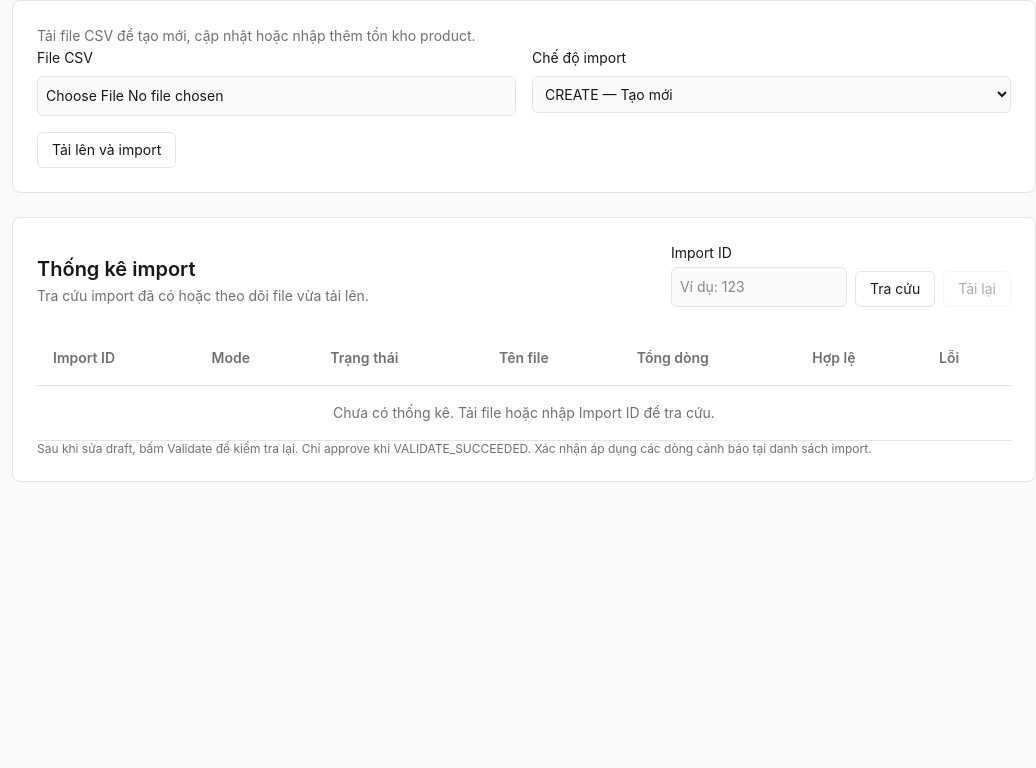
uploads selected CSV and mode, displays stats and supports validate and approve
The image size is (1036, 768).
Earlier steps of the test are not shown.
Select "RESTOCK — Nhập thêm tồn kho" in the dropdown labelled "Chế độ import" at (772, 95), box x1=532 y1=76 x2=1011 y2=113
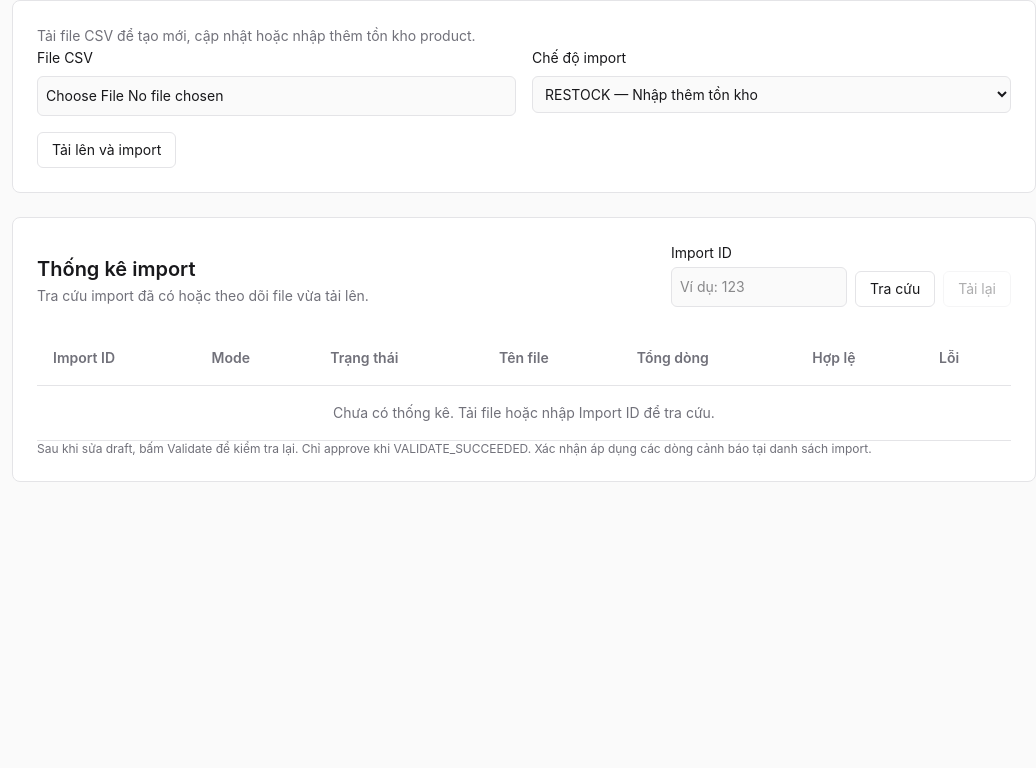
Submit the form "Tải lên và import", box x1=37 y1=47 x2=1011 y2=168
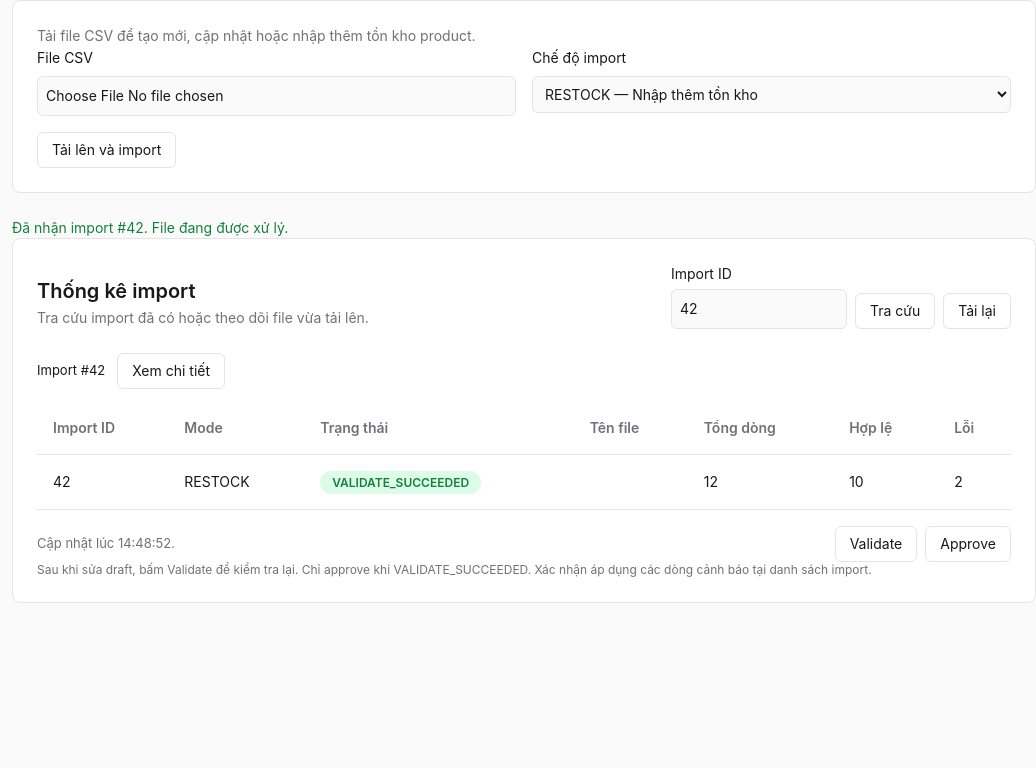
Expected: the text "VALIDATE_SUCCEEDED" is shown, x1=320 y1=471 x2=481 y2=494
Expected: the cell "12" is shown, x1=688 y1=455 x2=833 y2=509
Expected: the cell "10" is shown, x1=833 y1=455 x2=938 y2=509
Click the button "Validate" at (876, 544), box x1=835 y1=526 x2=917 y2=562
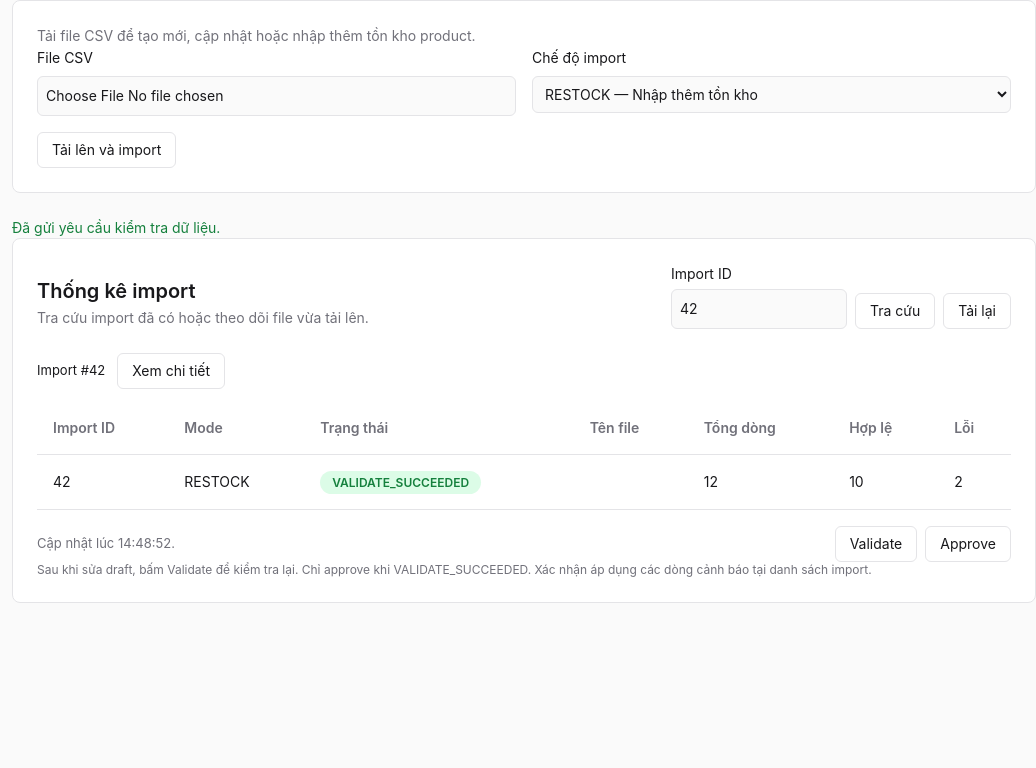
Expected: the text "VALIDATE_SUCCEEDED" is shown, x1=320 y1=471 x2=481 y2=494
Expected: the button "Validate" is enabled, x1=835 y1=526 x2=917 y2=562
Expected: the button "Approve" is enabled
Click the button "Approve" at (968, 544), box x1=925 y1=526 x2=1011 y2=562
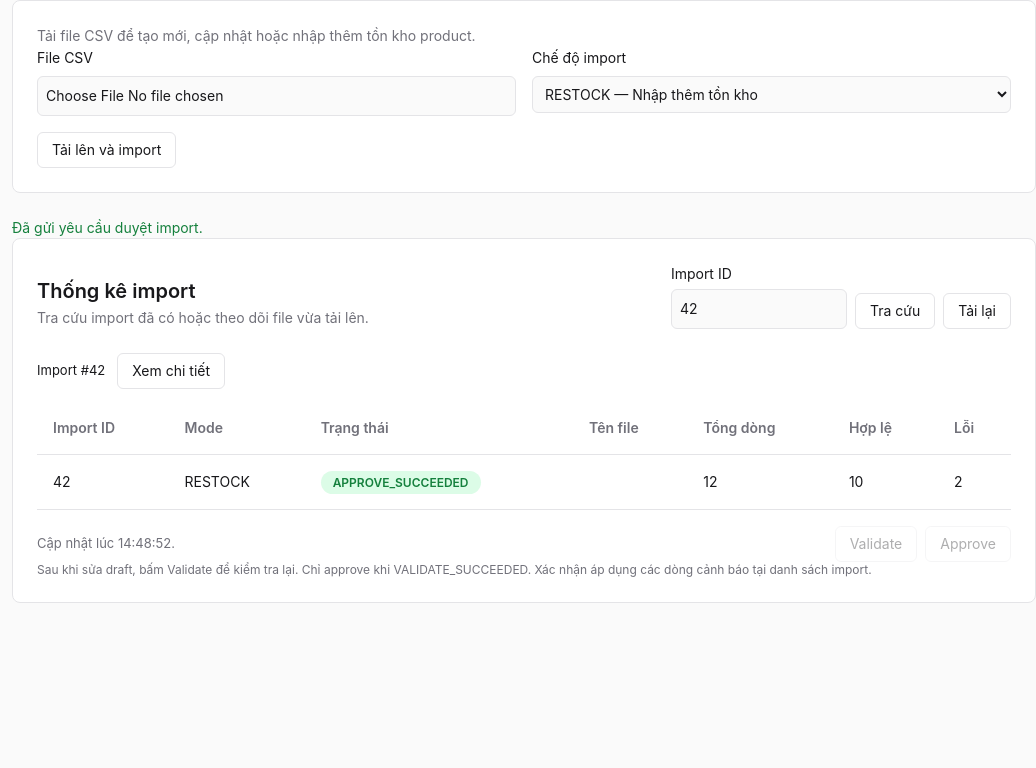
Expected: the text "APPROVE_SUCCEEDED" is shown, x1=321 y1=471 x2=480 y2=494
Expected: the button "Approve" is disabled, x1=925 y1=526 x2=1011 y2=562
